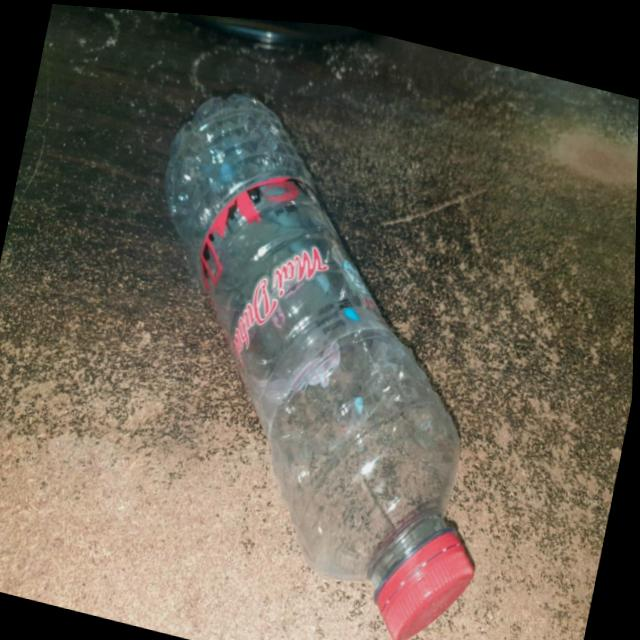anorganik: (102, 73, 557, 627)
